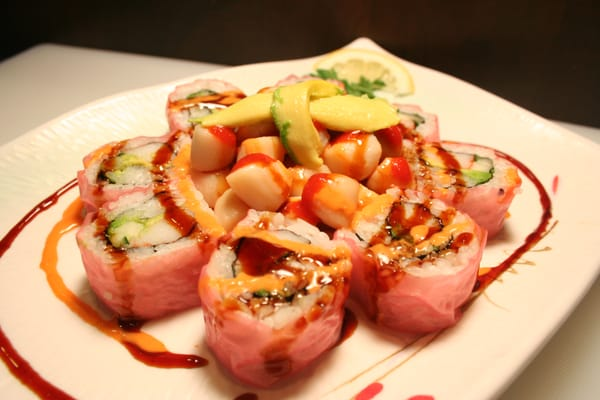curry: (1, 33, 592, 391)
